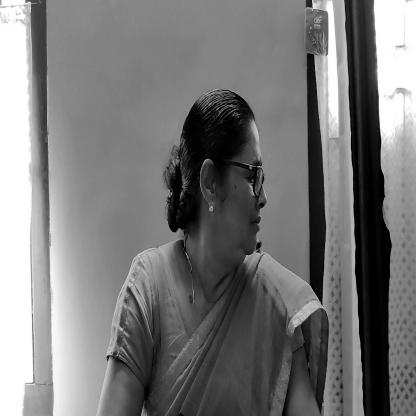Distracted: (178, 96, 273, 266)
